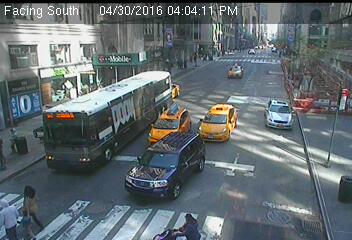neg: (306, 129, 336, 168), (67, 167, 88, 195), (123, 182, 144, 210), (258, 188, 279, 215), (235, 154, 255, 181), (43, 97, 63, 123), (101, 102, 121, 127), (275, 105, 294, 130), (125, 49, 144, 74), (81, 195, 100, 220), (50, 60, 68, 84), (150, 130, 167, 152), (192, 123, 209, 145), (230, 59, 246, 81), (49, 138, 65, 160), (171, 47, 187, 68), (226, 94, 241, 114), (89, 51, 104, 71), (279, 159, 294, 178), (274, 54, 287, 73), (186, 173, 199, 192), (304, 66, 315, 82)
pos: (16, 180, 48, 222), (179, 208, 201, 237), (17, 209, 37, 236)
